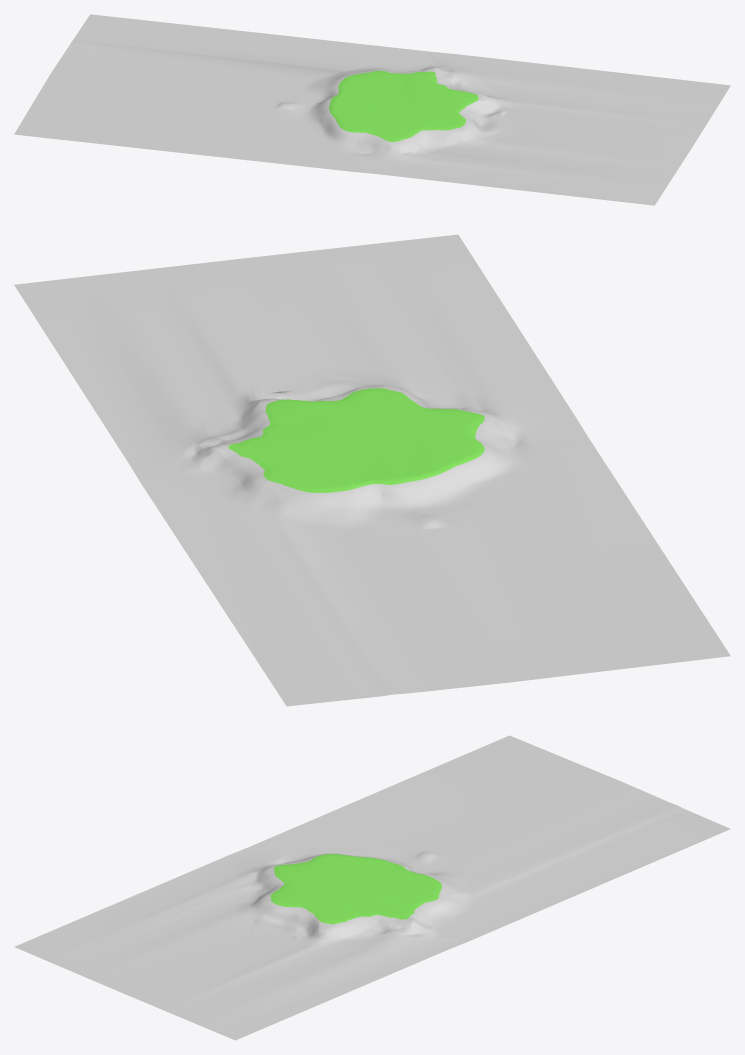
Rendered from Isola.fbx.
The picture shows the model from 3 angles, top to bottom: view 1: azimuth 30°, elevation 25°; view 2: azimuth 150°, elevation 25°; view 3: azimuth 270°, elevation 25°; orthographic projection. The views are drawn at different scales.
Parts seen in each view (by area): view 1: NSpiaggia.002, NSpiaggia.003; view 2: NSpiaggia.002, NSpiaggia.003; view 3: NSpiaggia.002, NSpiaggia.003.
Boxes of the visible parts, box(x1,y1,x2,y2) form: NSpiaggia.002: box(14, 14, 730, 205); NSpiaggia.003: box(329, 70, 478, 141); NSpiaggia.002: box(14, 234, 730, 706); NSpiaggia.003: box(228, 388, 484, 492); NSpiaggia.002: box(14, 735, 730, 1040); NSpiaggia.003: box(270, 854, 441, 924).
Size of the model in its own units: 6782 by 112 by 6735.
